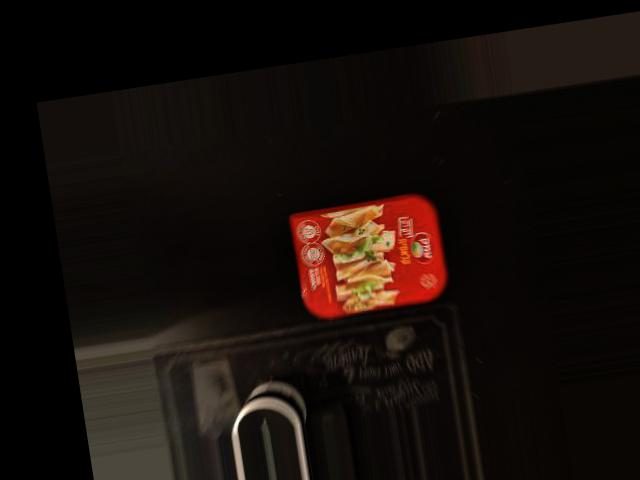cheese: (278, 184, 454, 327)
